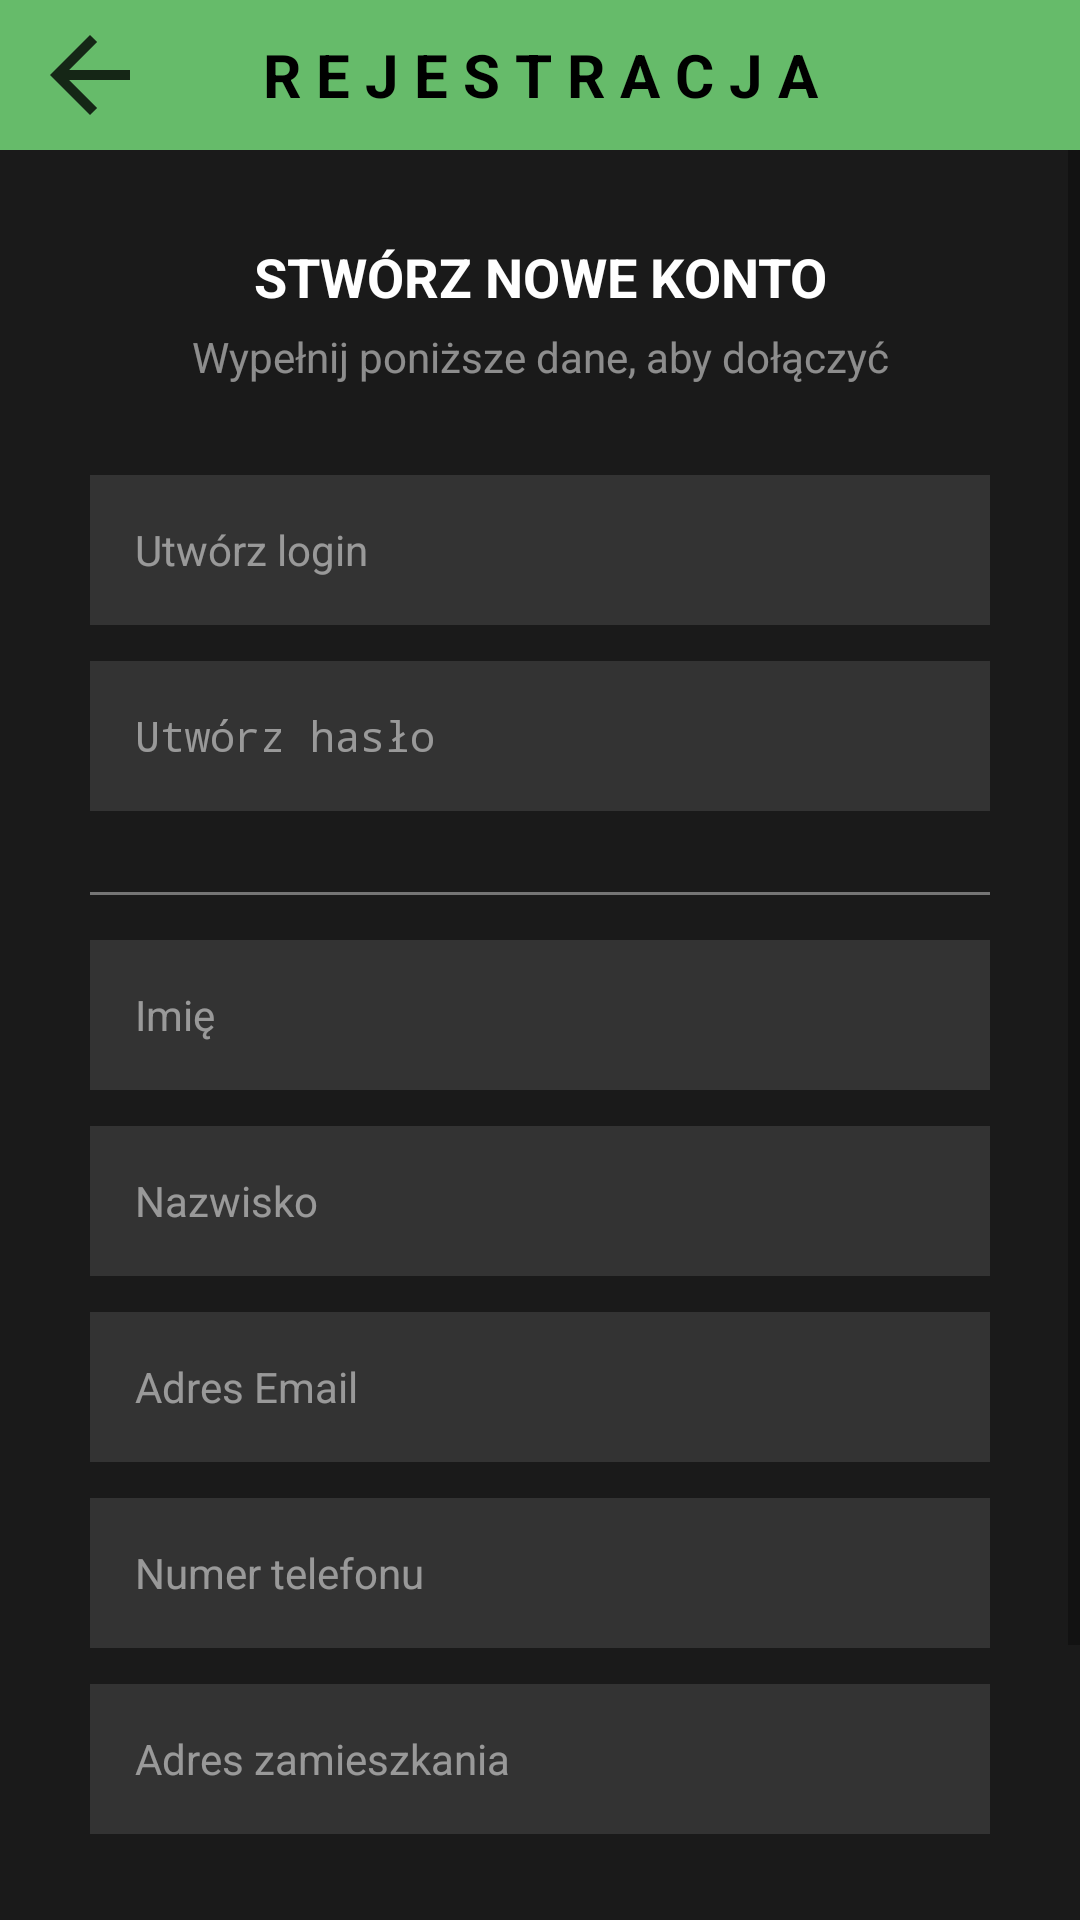

Where to tap for icons on this 1080 x 1920 app screen, as (x=x, y=y):
strzalka: (x=90, y=75)
